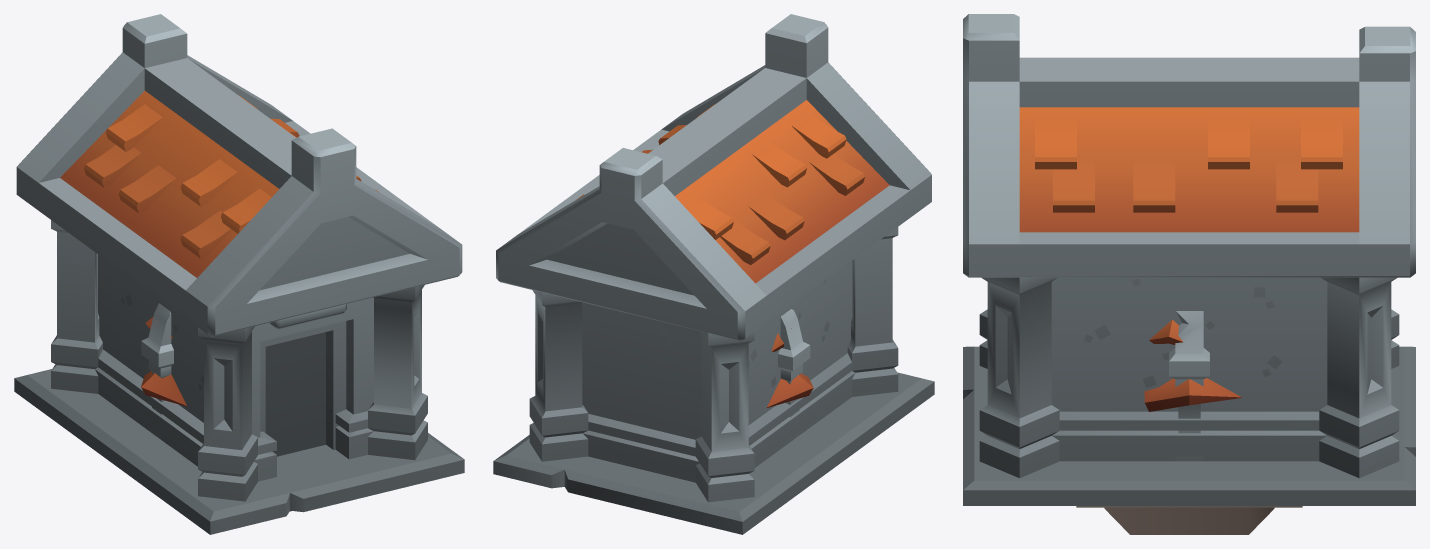
Rendered from world.72bd7034.glb.
3 views of the same model, side by side, from view 1: azimuth 30°, elevation 25°; view 2: azimuth 150°, elevation 25°; view 3: azimuth 270°, elevation 25° (orthographic). The views are drawn at different scales.
Visible parts, largest first — view 1: crypt, arch_gate, tree_pine_orange_large; view 2: crypt, arch_gate, tree_pine_orange_large; view 3: crypt, floor_dirt_grave, arch_gate, tree_pine_orange_large.
Boxes of the visible parts, x1=… form: crypt: x1=14, y1=14, x2=464, y2=534; arch_gate: x1=141, y1=303, x2=173, y2=368; tree_pine_orange_large: x1=141, y1=317, x2=187, y2=406; crypt: x1=493, y1=14, x2=934, y2=534; arch_gate: x1=778, y1=309, x2=810, y2=381; tree_pine_orange_large: x1=767, y1=328, x2=813, y2=407; crypt: x1=963, y1=14, x2=1415, y2=505; floor_dirt_grave: x1=1076, y1=506, x2=1302, y2=534; arch_gate: x1=1169, y1=311, x2=1209, y2=460; tree_pine_orange_large: x1=1144, y1=319, x2=1241, y2=411.
Bounding box in the file's own units: 6 × 9.5 × 8.
Materials: 3 (3 with a texture image).
